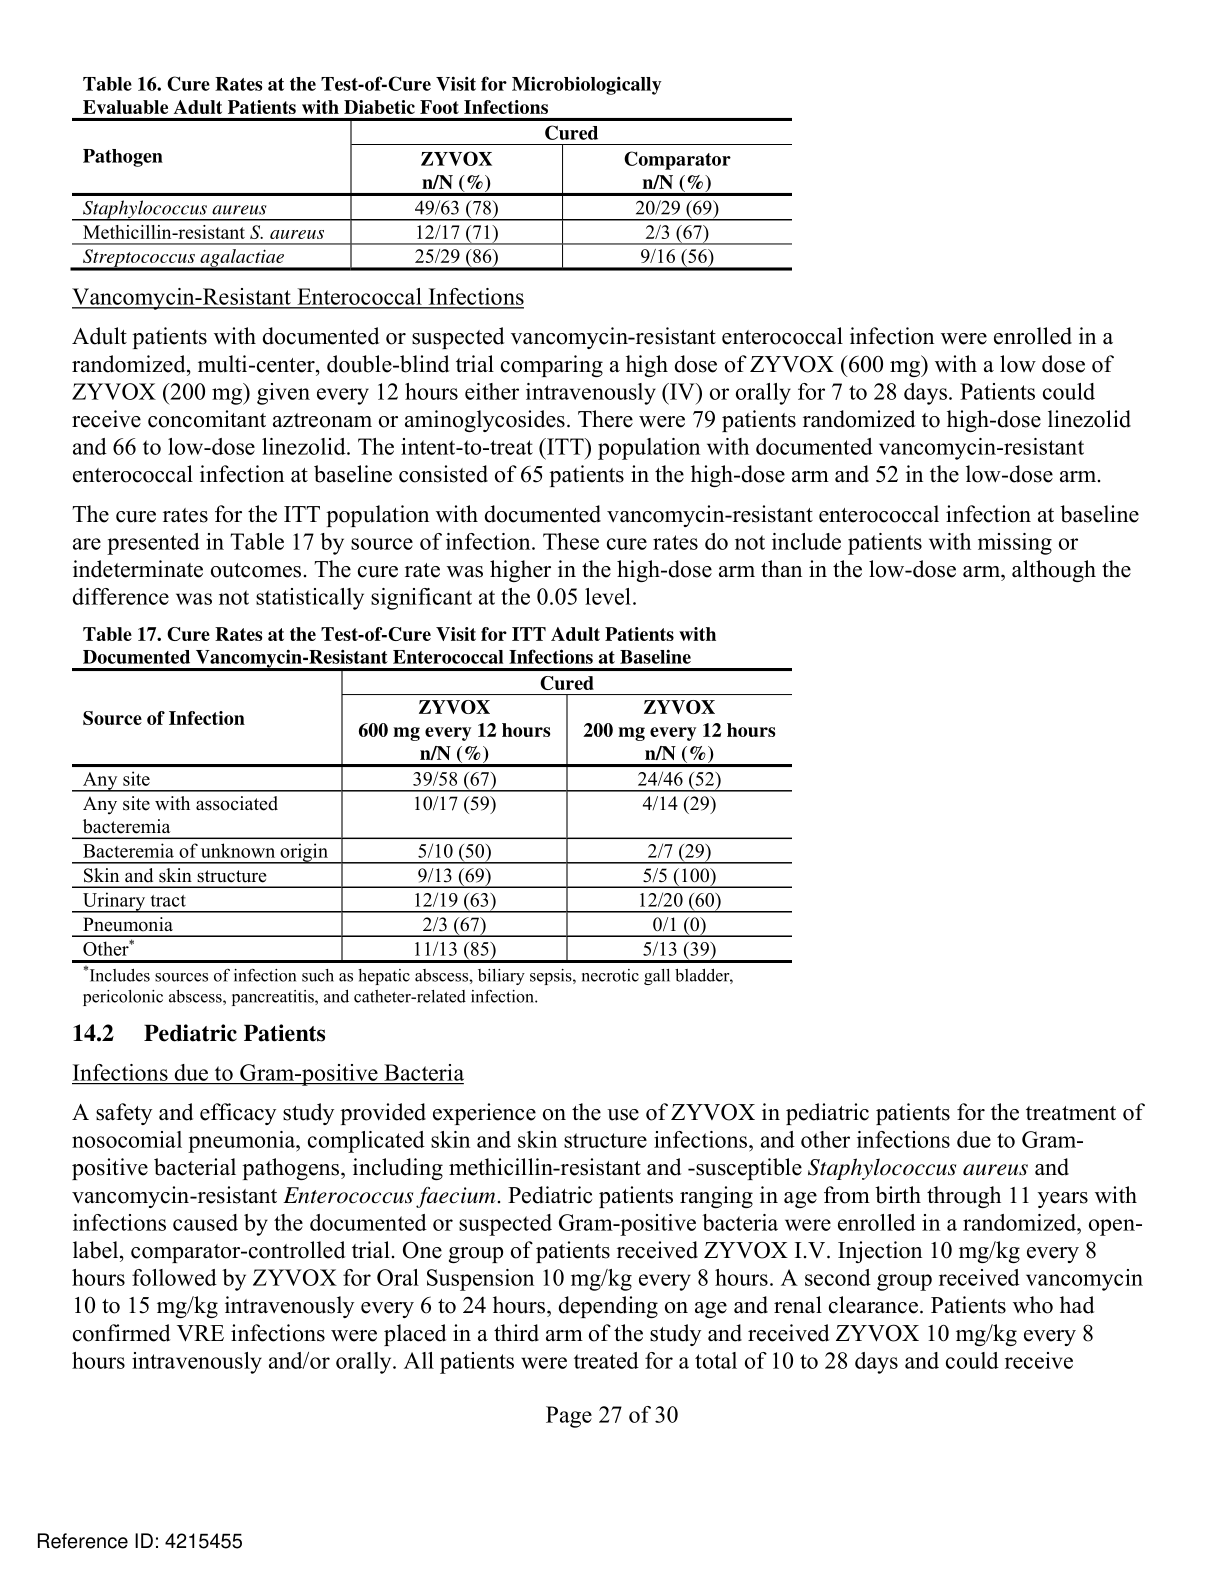partial_lined_merged_cells: (71, 666, 795, 966), (67, 116, 795, 274)
